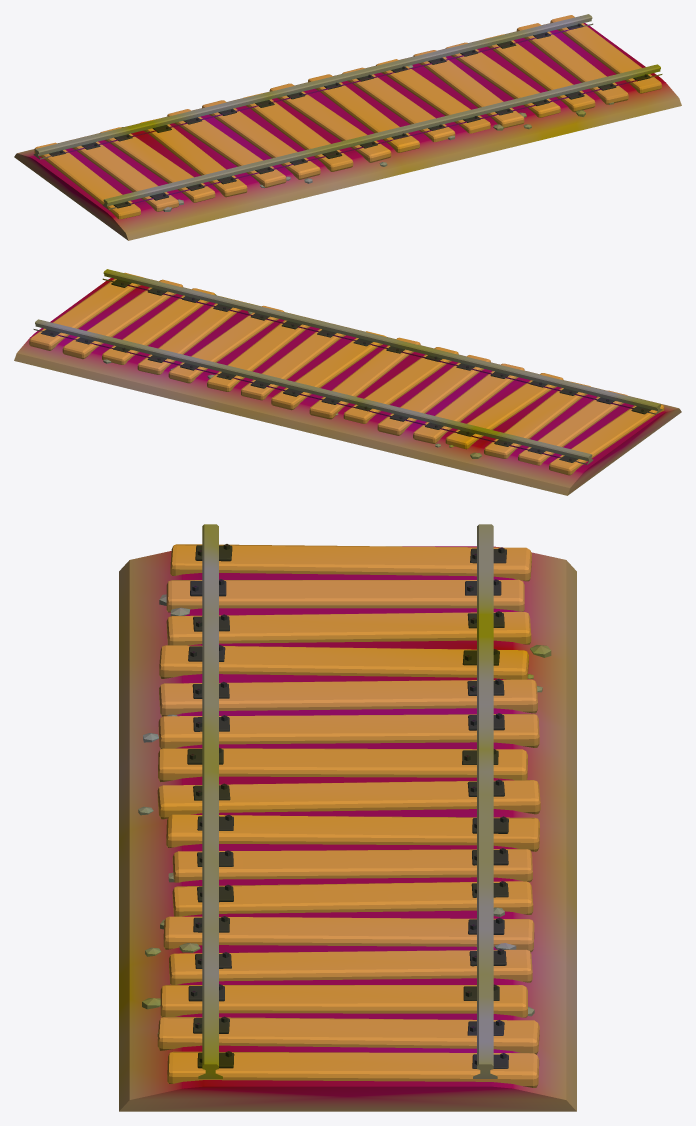
Rendered from Track_Straight_12m.glb.
The picture shows the model from 3 angles, top to bottom: view 1: azimuth 30°, elevation 25°; view 2: azimuth 150°, elevation 25°; view 3: azimuth 270°, elevation 25°; orthographic projection. The views are drawn at different scales.
Parts seen in each view (by area): view 1: Track_Straight_12m; view 2: Track_Straight_12m; view 3: Track_Straight_12m.
Part boxes in pixels (x1,y1,x2,y2): Track_Straight_12m: (14, 14, 681, 240); Track_Straight_12m: (14, 269, 681, 495); Track_Straight_12m: (119, 524, 576, 1111).
Bounding box in the file's own units: 12 × 0.49 × 4.3.
